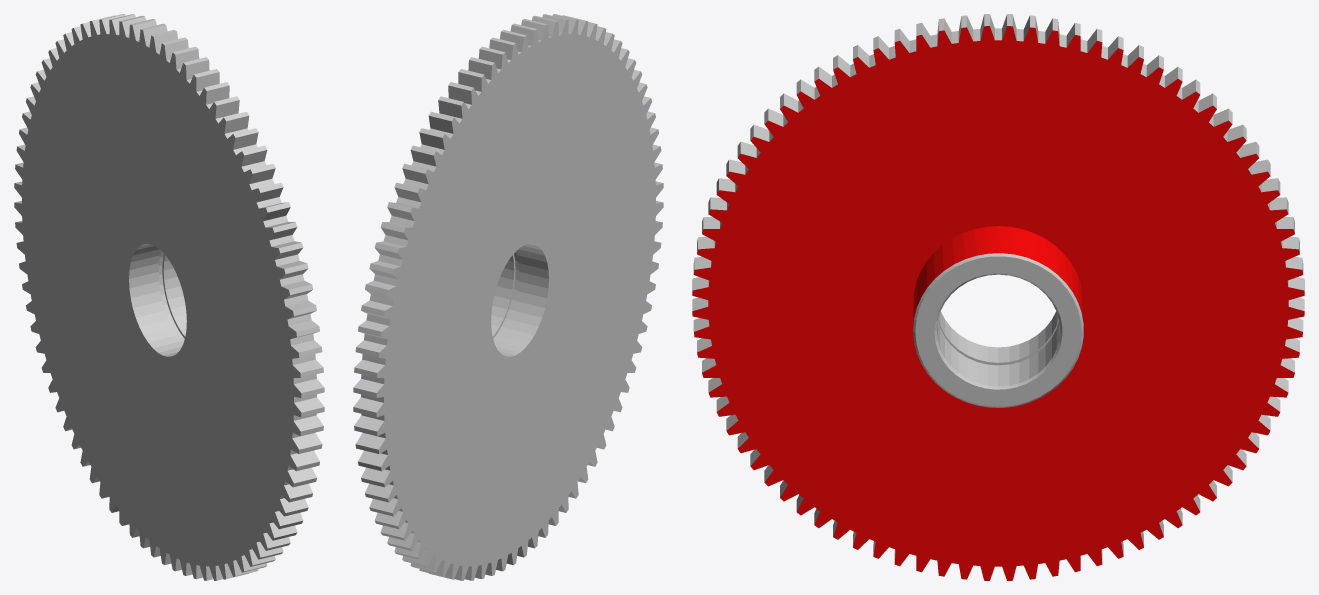
File: 963507_RW44_IT53_stp_89_345.obj
3 views of the same model, side by side, from view 1: azimuth 30°, elevation 25°; view 2: azimuth 150°, elevation 25°; view 3: azimuth 270°, elevation 25° (orthographic). The views are drawn at different scales.
Visible parts, largest first — view 1: Object1; view 2: Object1; view 3: Object1.
Boxes of the visible parts, bbox=[...] form: Object1: bbox=[14, 14, 324, 580]; Object1: bbox=[353, 14, 663, 580]; Object1: bbox=[692, 14, 1304, 580].
Size of the model in its own units: 20 by 129 by 129.
